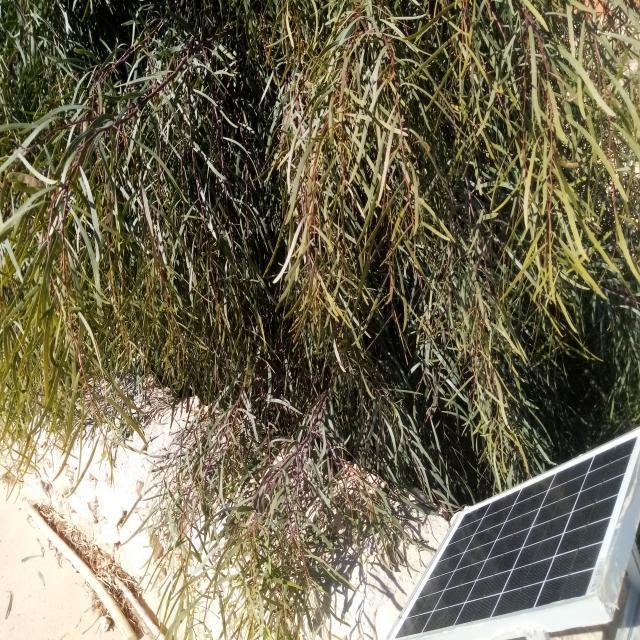Normal Solar Panel: (385, 430, 639, 639)
